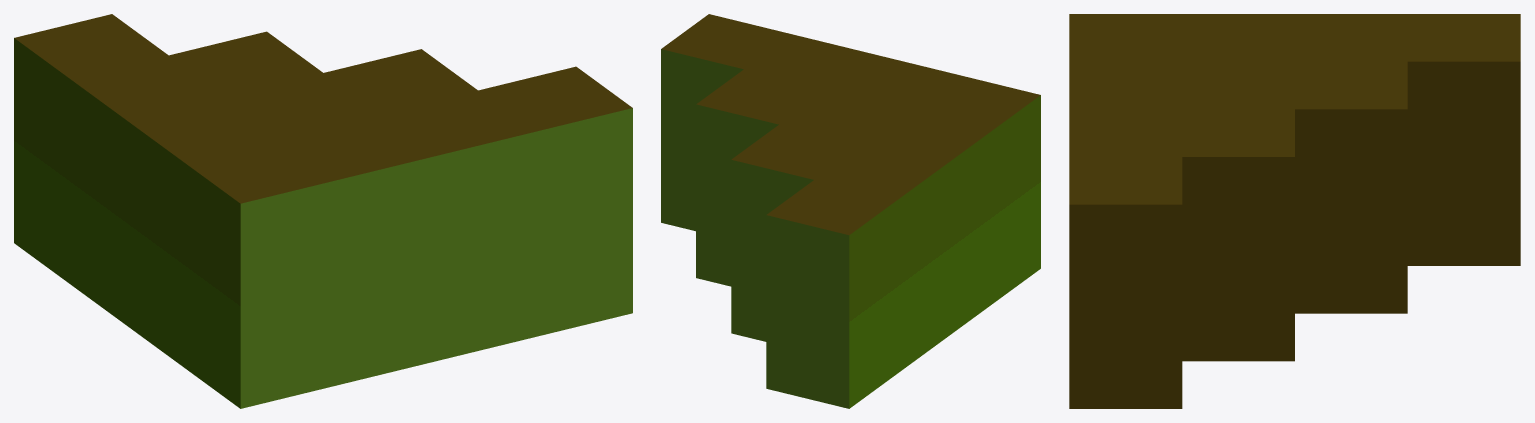
Rendered from block_7.fbx.
3 views of the same model, side by side, from view 1: azimuth 30°, elevation 25°; view 2: azimuth 150°, elevation 25°; view 3: azimuth 270°, elevation 25° (orthographic). The views are drawn at different scales.
Parts seen in each view (by area): view 1: Box.030; view 2: Box.030; view 3: Box.030.
Part boxes in pixels (x1=…): Box.030: x1=14, y1=14, x2=632, y2=408; Box.030: x1=661, y1=14, x2=1040, y2=408; Box.030: x1=1069, y1=14, x2=1520, y2=408.
Bounding box in the file's own units: 4 × 2 × 4.
